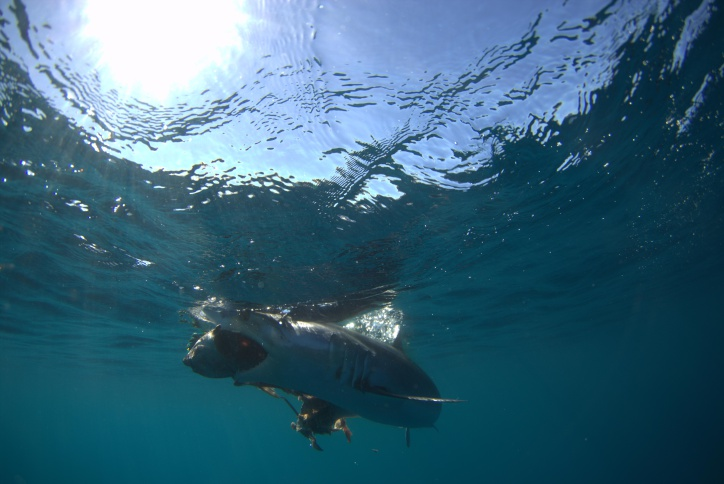Mako: (193, 287, 476, 455)
